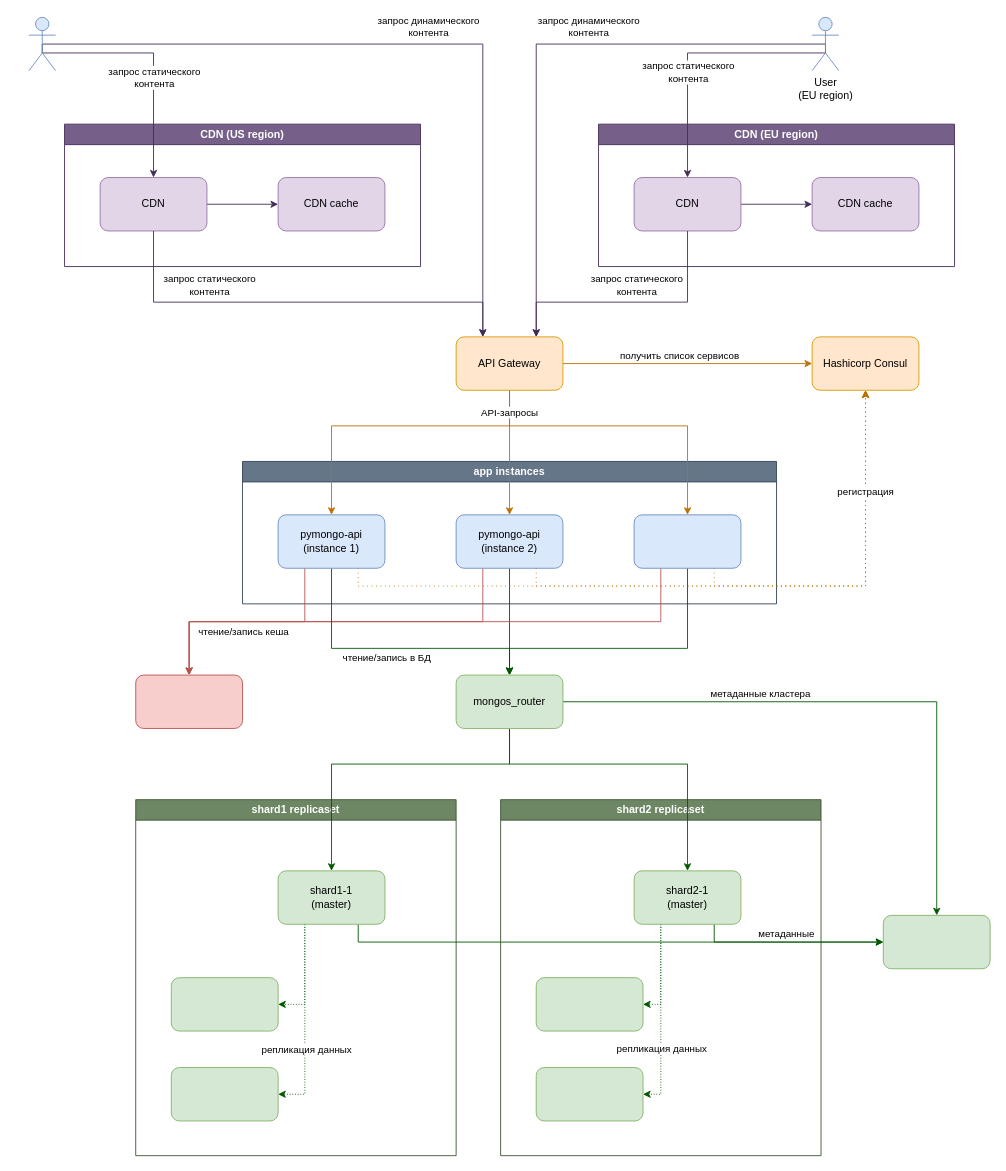
Image size: 1006x1171. Some labels were removed from this diagram. The shapes that lost their labels are listed below. From the top down, each one's centre as x and y in pixels, then its label:
At point 42,43: "User (US region)".
At point 687,541: "pymongo-api (instance 3)".
At point 189,701: "redis cache".
At point 936,941: "configSrv".
At point 224,1004: "shard1-2 (slave)".
At point 589,1004: "shard2-2 (slave)".
At point 224,1094: "shard1-3 (slave)".
At point 589,1094: "shard2-3 (slave)".
